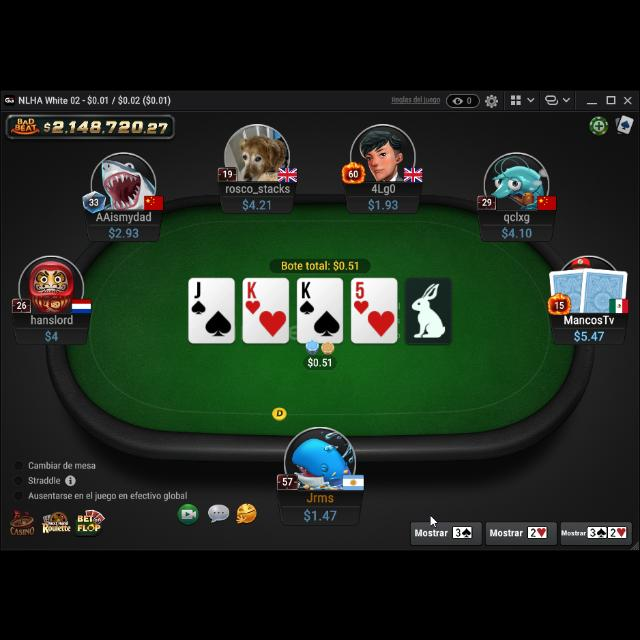5h: (354, 280, 371, 314)
Js: (190, 280, 208, 316)
Kh: (244, 279, 262, 315)
Ks: (298, 280, 314, 316)
bet_text: (306, 356, 332, 368)
card_back: (578, 264, 632, 314), (548, 266, 588, 314)
dealer: (269, 404, 289, 422)
pot_text: (281, 259, 359, 271)
stack_text: (301, 506, 339, 522), (366, 196, 399, 212), (240, 196, 272, 212), (500, 225, 536, 239), (574, 329, 608, 341), (108, 226, 140, 238), (44, 328, 60, 344)
